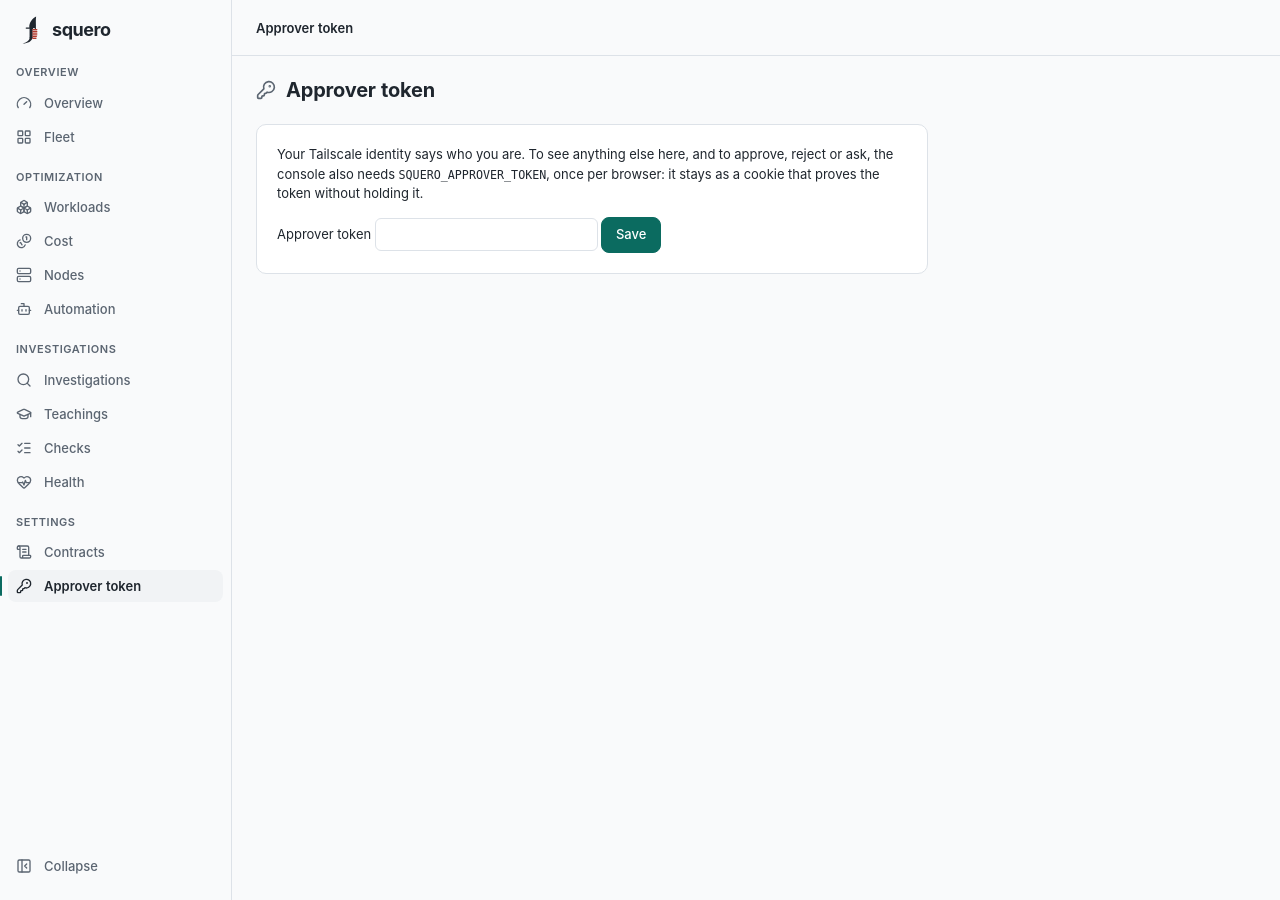
it: the token page posts the token and says when it is wrong
The image size is (1280, 900).
Type "guess" into the password field labelled "Approver token".
click(486, 235); type("guess")  # box [375, 218, 598, 251]
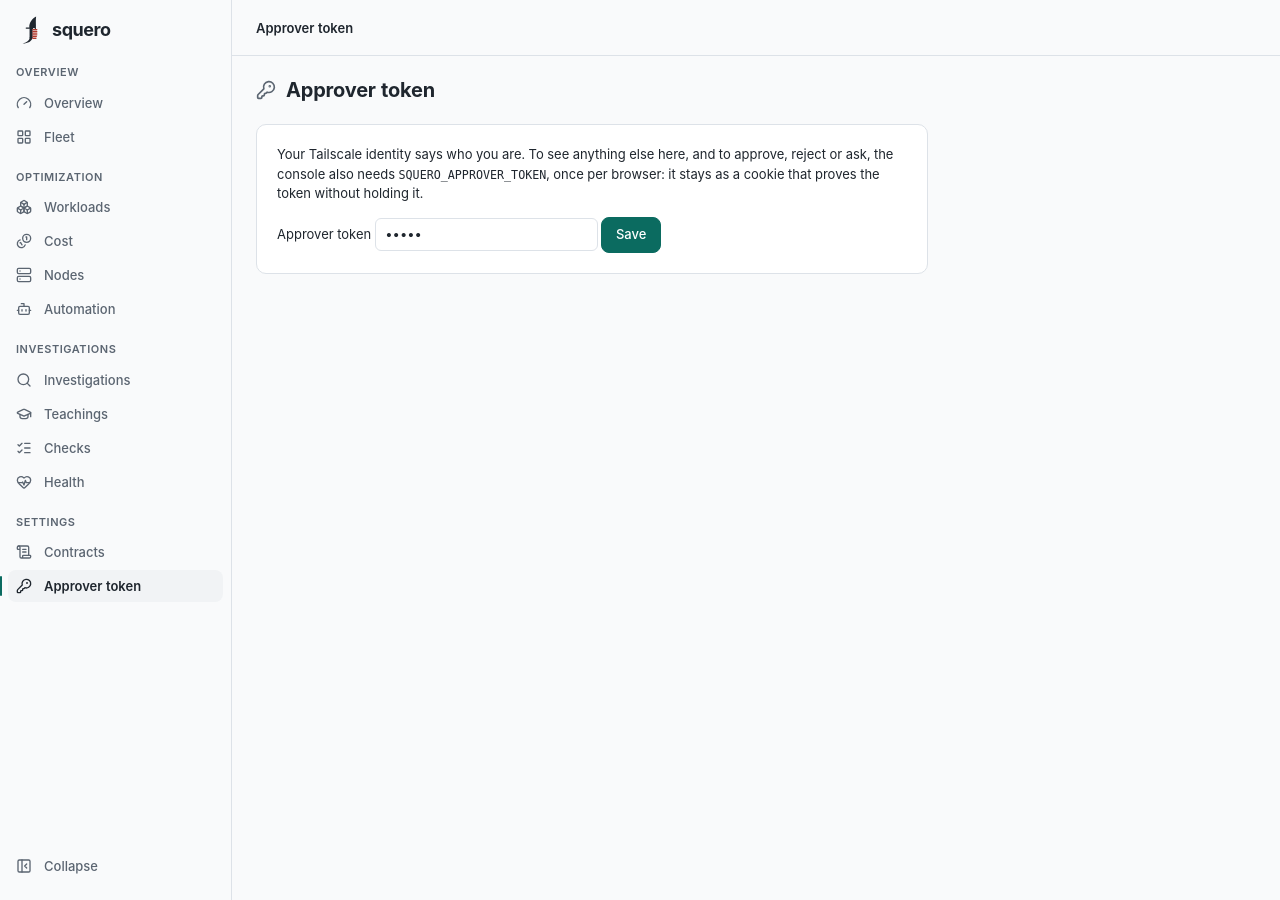
Click the button "Save".
click(631, 234)  # box [601, 216, 661, 252]
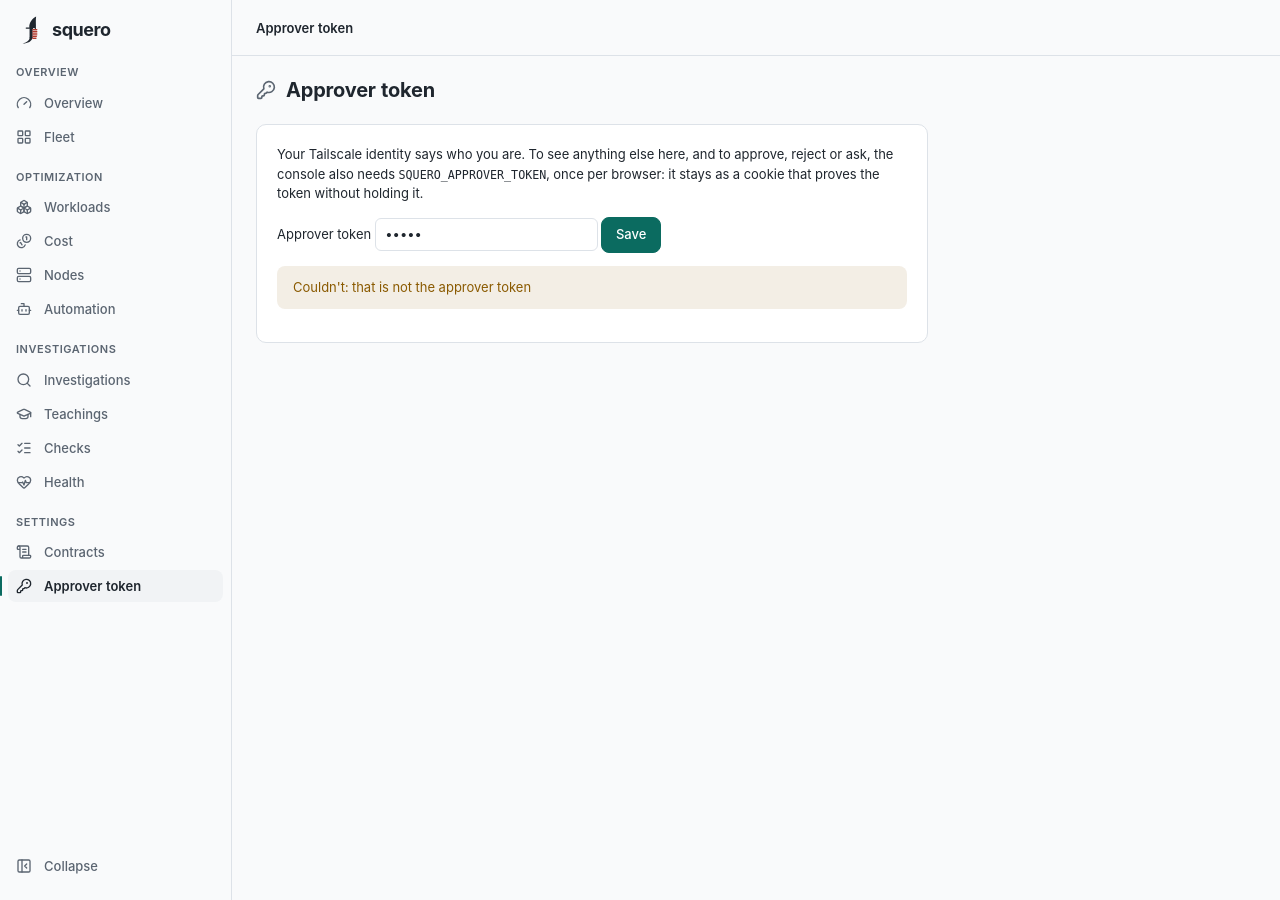
Expected: the form is shown, [277, 216, 661, 252]
Expected: the text "Couldn't: that is not the approver token" is shown, [277, 266, 907, 309]
